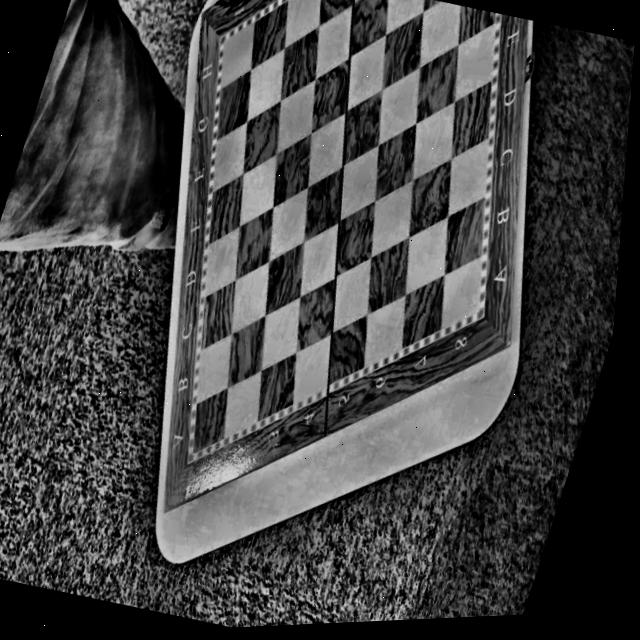chessboard: (168, 0, 520, 516)
